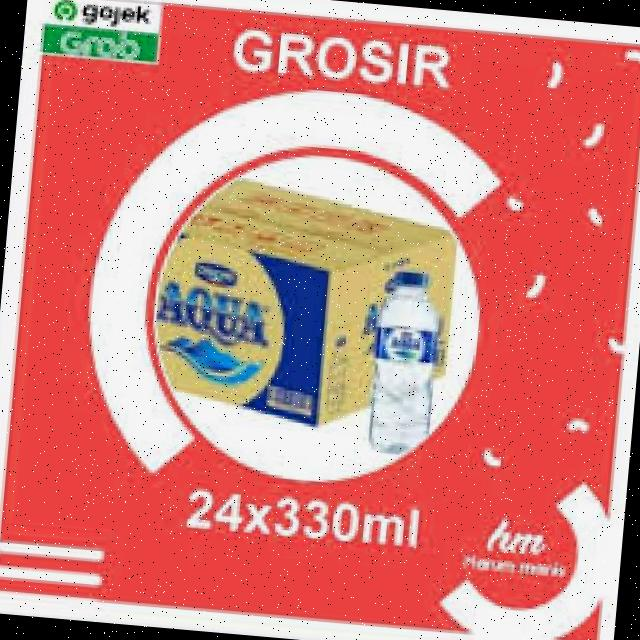bottle: (359, 266, 468, 467)
cap: (390, 268, 430, 290)
